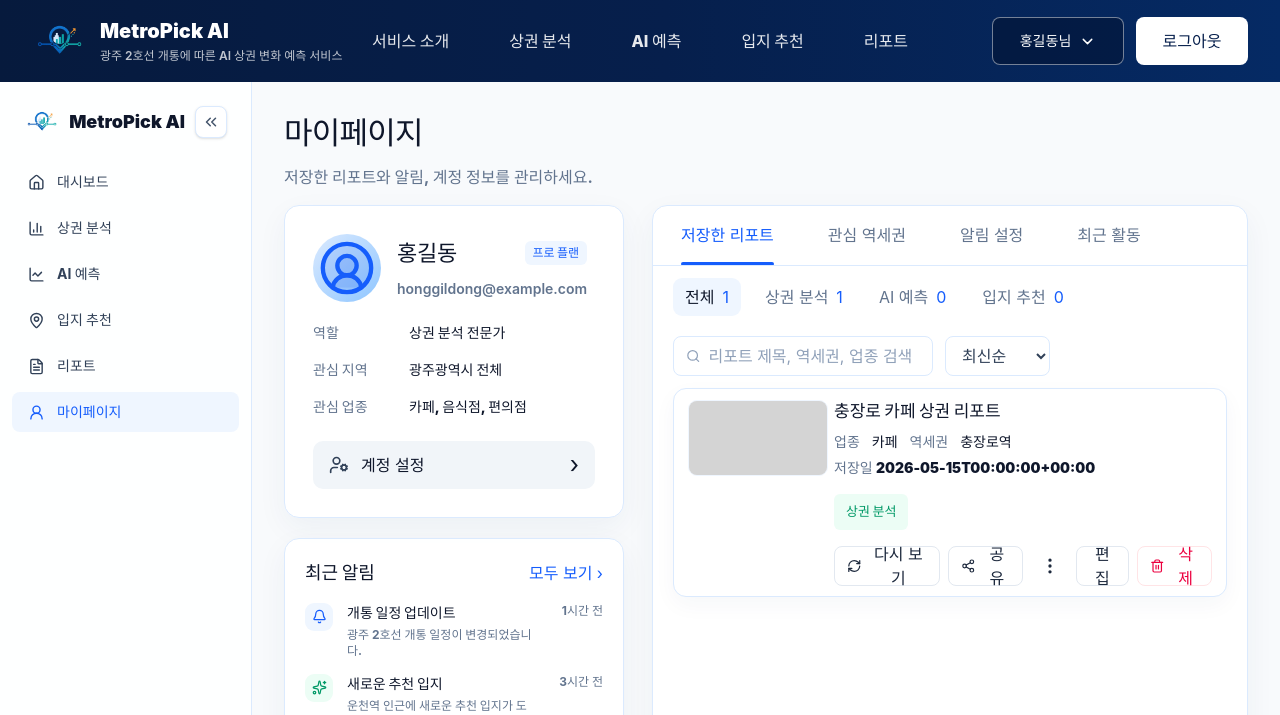
Test case: MyPage › edits backend saved report metadata through the backend API
Expected: the heading "충장로 카페 상권 리포트" is shown, [834,400,1001,420]
Click the button with aria-label "충장로 카페 상권 리포트 편집" at coordinates (1102, 566), box [1076,546,1129,586]
(page scrolled)
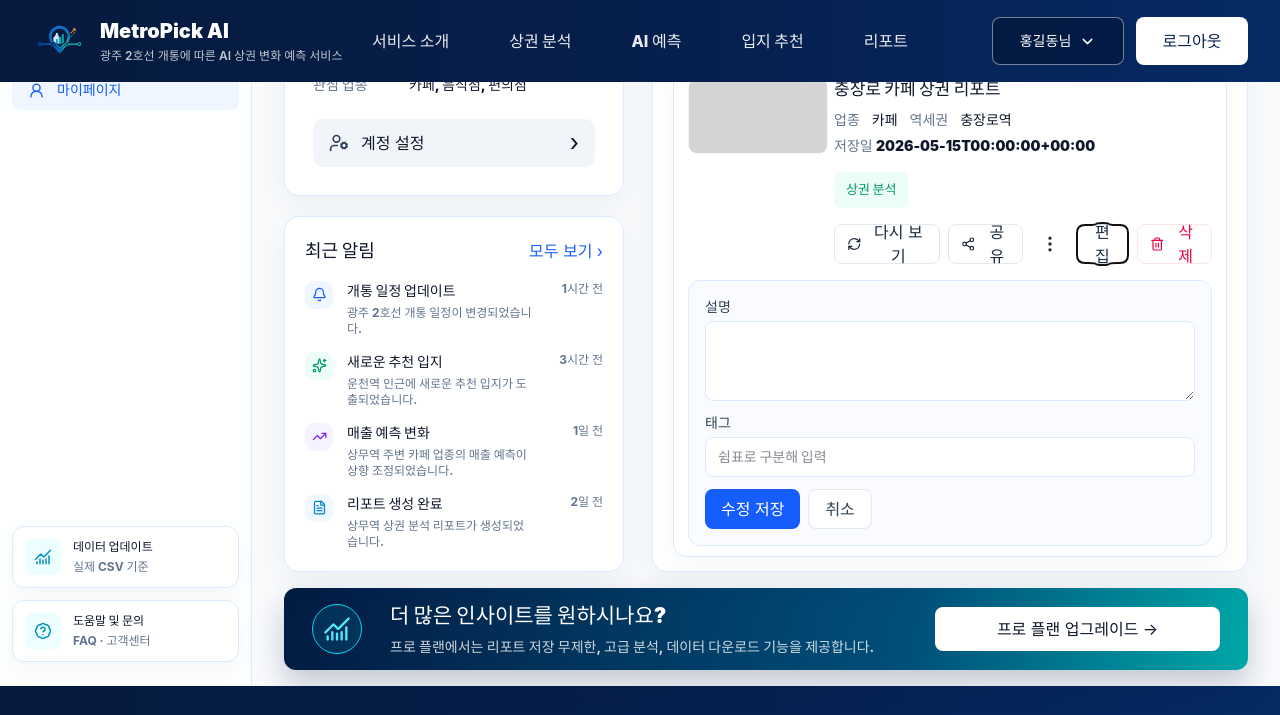
Type "야간 유동인구가 강한 권역입니다." into the text box labelled "설명" at coordinates (950, 360), box [705,320,1195,400]
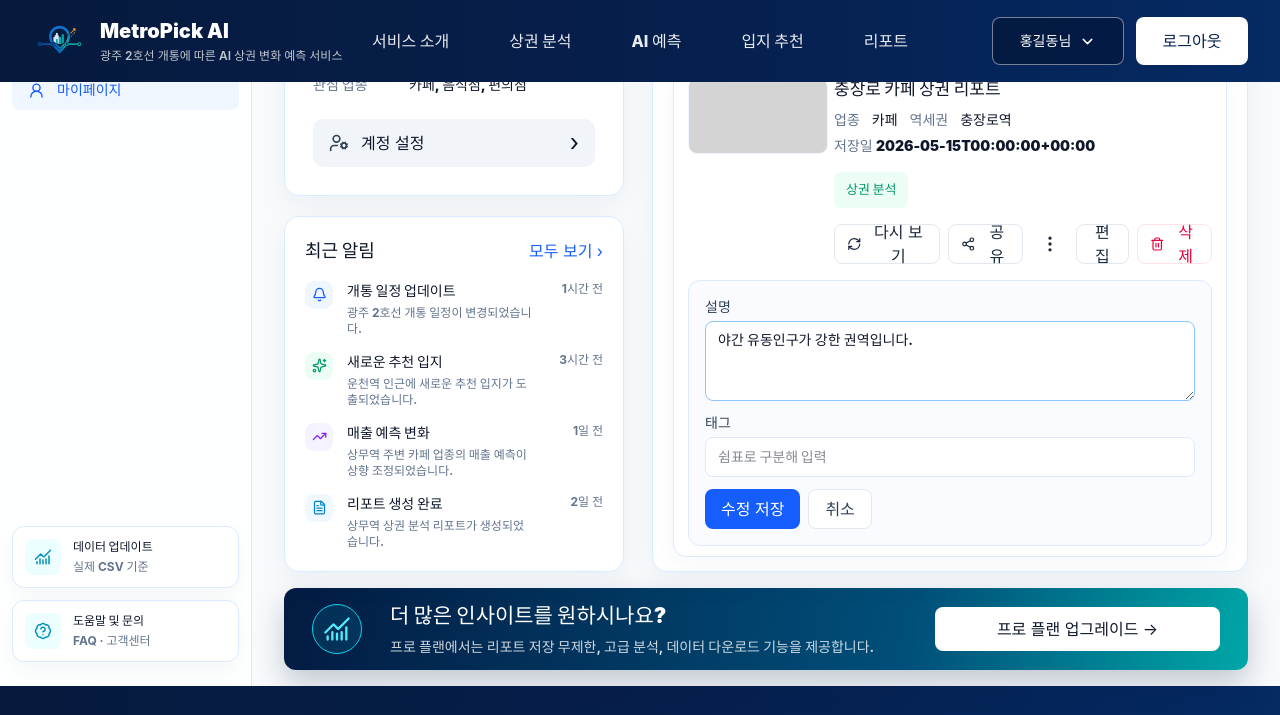
Type "야간상권, 카페" into the field labelled "태그" at coordinates (950, 456), box [705,436,1195,476]
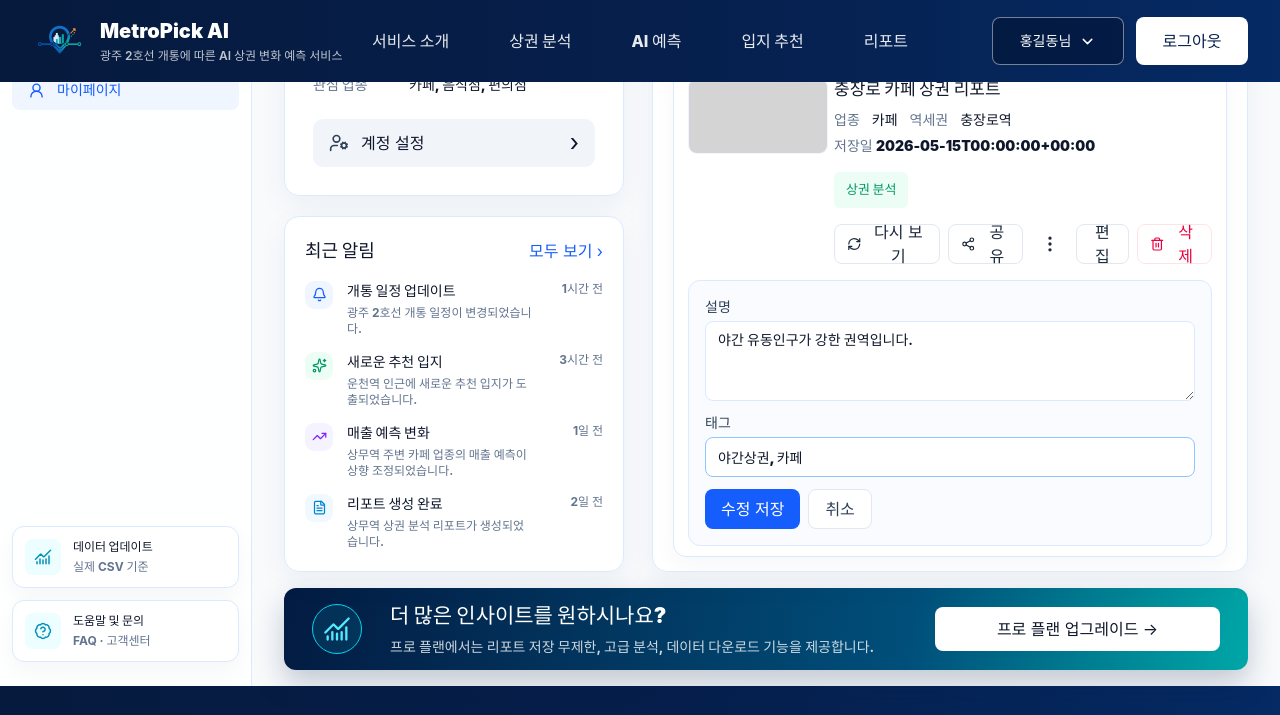
Click the button "수정 저장" at coordinates (753, 508), box [705,488,800,528]
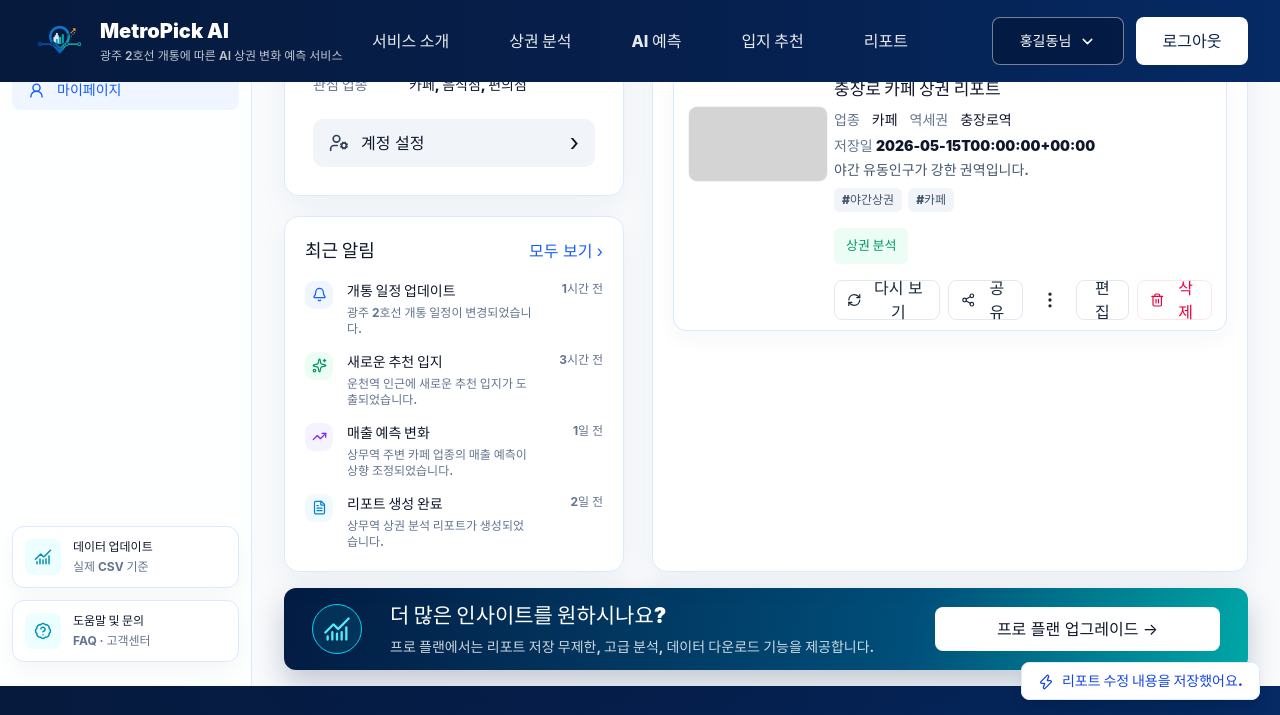
Expected: the text "리포트 수정 내용을 저장했어요." is shown, [1021,662,1260,700]
